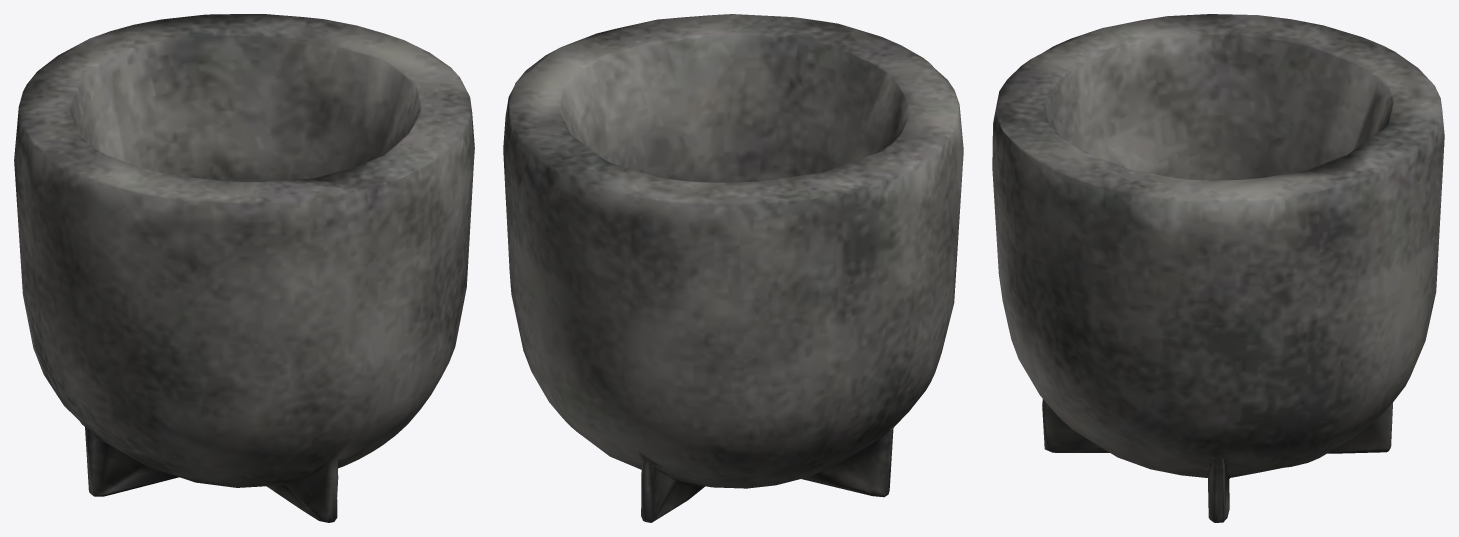
File: chipped-granite-brazier-v001.glb
3 views of the same model, side by side, from view 1: azimuth 30°, elevation 25°; view 2: azimuth 150°, elevation 25°; view 3: azimuth 270°, elevation 25° (orthographic). The views are drawn at different scales.
Visible parts, largest first — view 1: chipped-granite-brazier; view 2: chipped-granite-brazier; view 3: chipped-granite-brazier.
Boxes of the visible parts, box(x1,y1,x2,y2) form: chipped-granite-brazier: box(14, 14, 474, 522); chipped-granite-brazier: box(503, 14, 963, 522); chipped-granite-brazier: box(992, 14, 1444, 522).
Size of the model in its own units: 1.23 by 1.05 by 1.23.
1 material, 1 textured.
